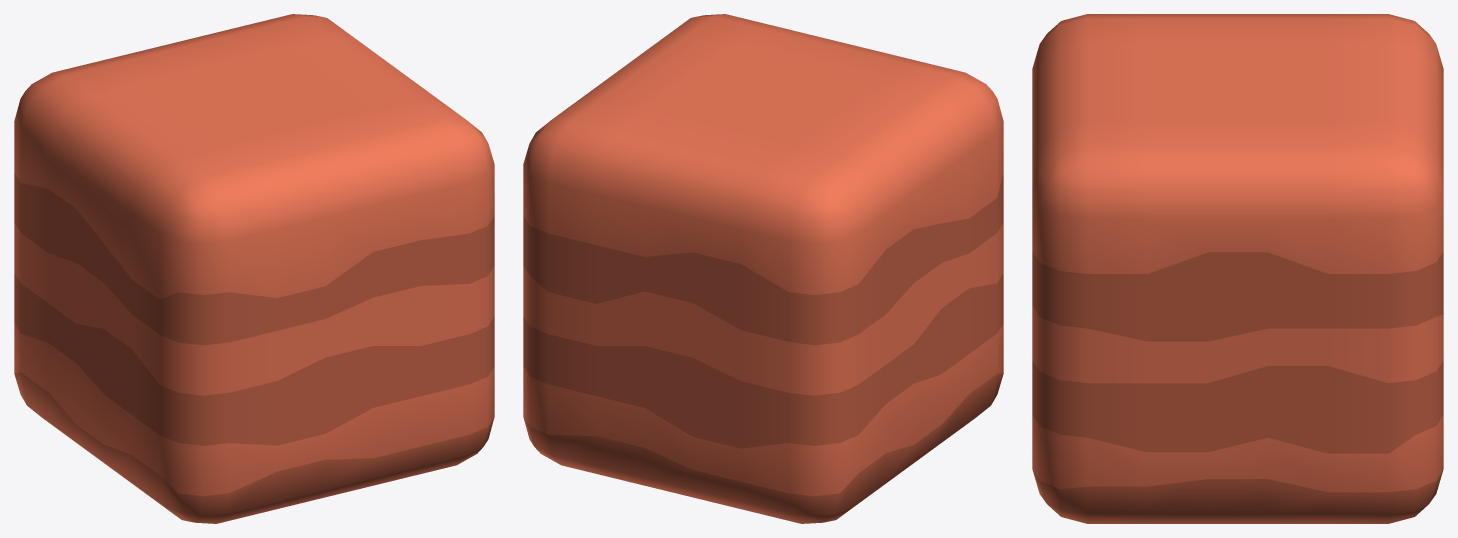
The model's file is Stone022.fbx.
3 views of the same model, side by side, from view 1: azimuth 30°, elevation 25°; view 2: azimuth 150°, elevation 25°; view 3: azimuth 270°, elevation 25° (orthographic). The views are drawn at different scales.
Parts seen in each view (by area): view 1: Stone022; view 2: Stone022; view 3: Stone022.
Part boxes in pixels (box(x1,y1,x2,y2)): Stone022: box(14, 14, 494, 523); Stone022: box(523, 14, 1003, 523); Stone022: box(1032, 14, 1443, 523).
Bounding box in the file's own units: 156 × 156 × 156.
